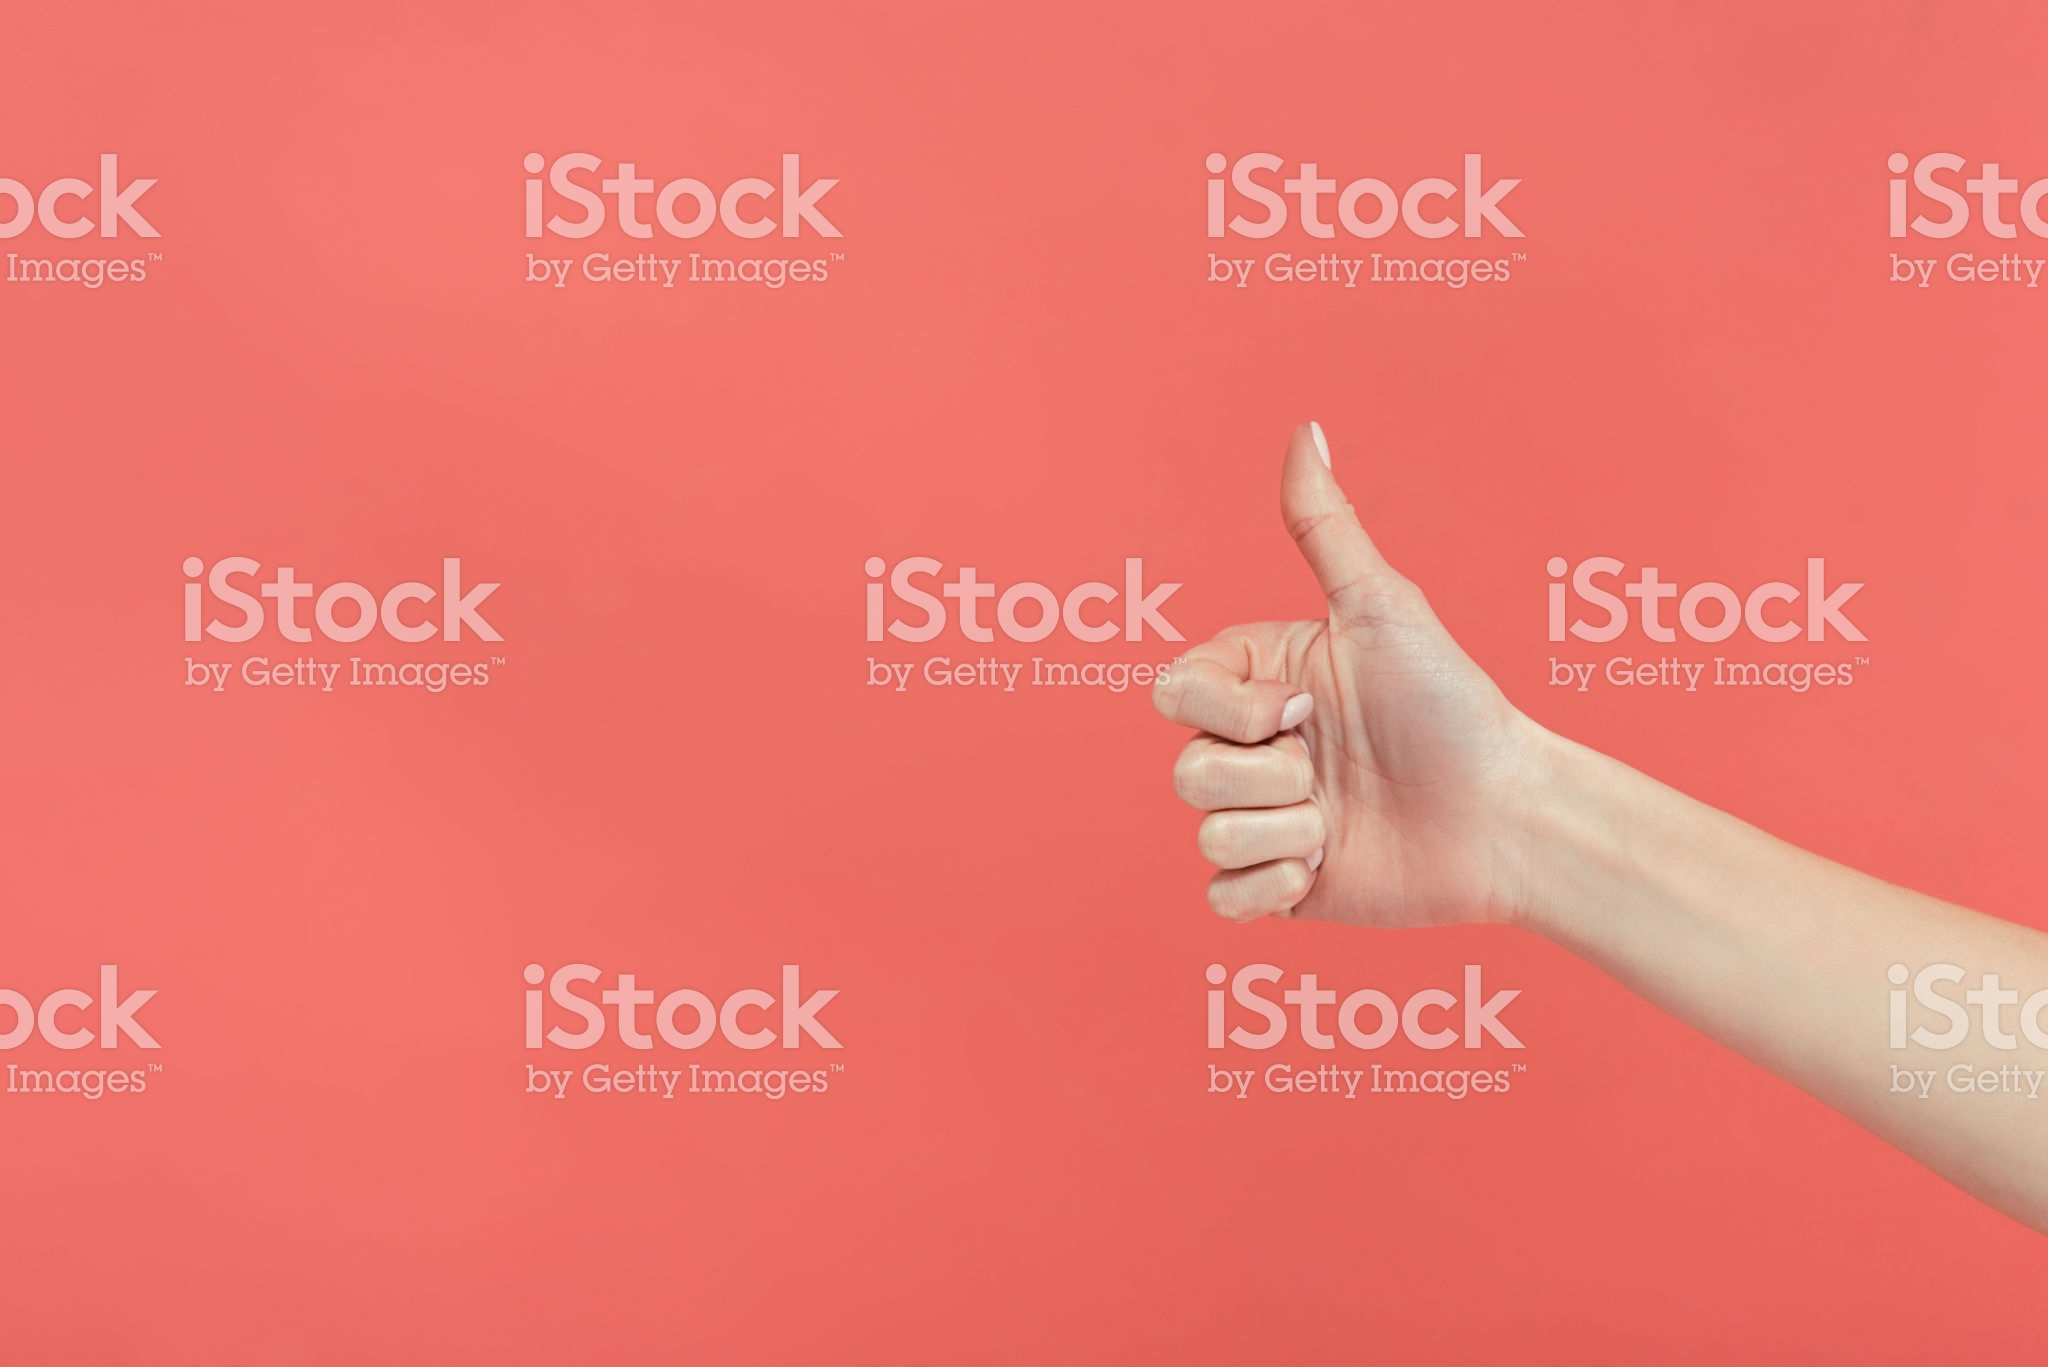thumbsup: (1148, 418, 1465, 934)
